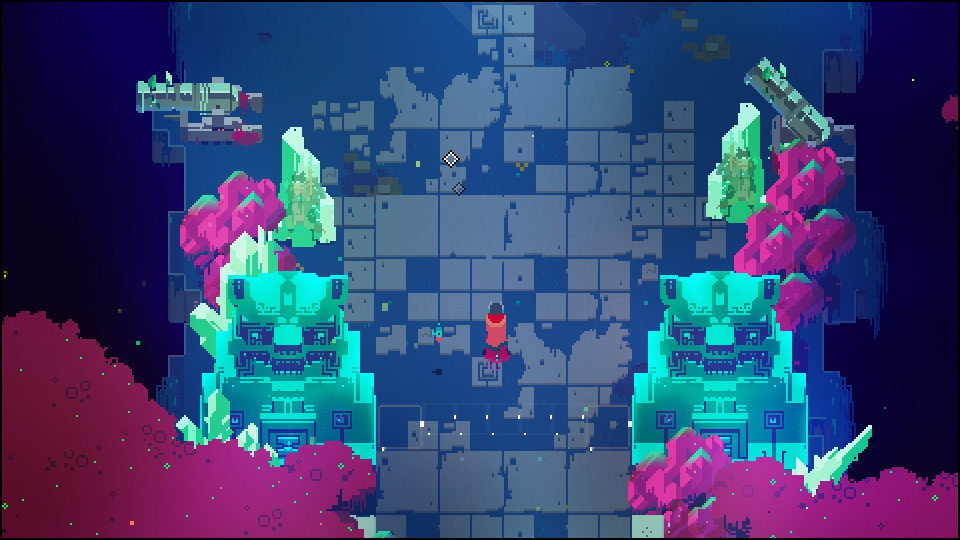player: (482, 295, 511, 357)
